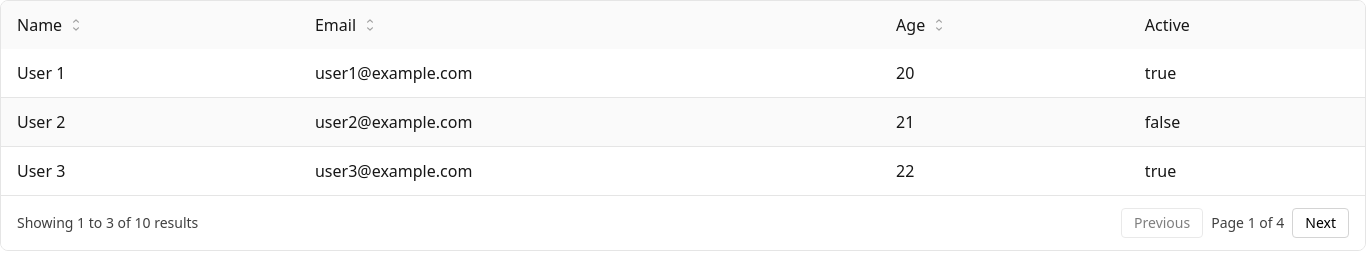
Test: DataTable › handles pagination when enabled
Check: the text "Showing 1 to 3 of 10 results" is shown, box [17,213,198,233]
Check: the button "Previous" is shown, box [1121,208,1203,238]
# Click next page
Click the button "Next" at {"x": 1321, "y": 223}, box [1292,208,1349,238]
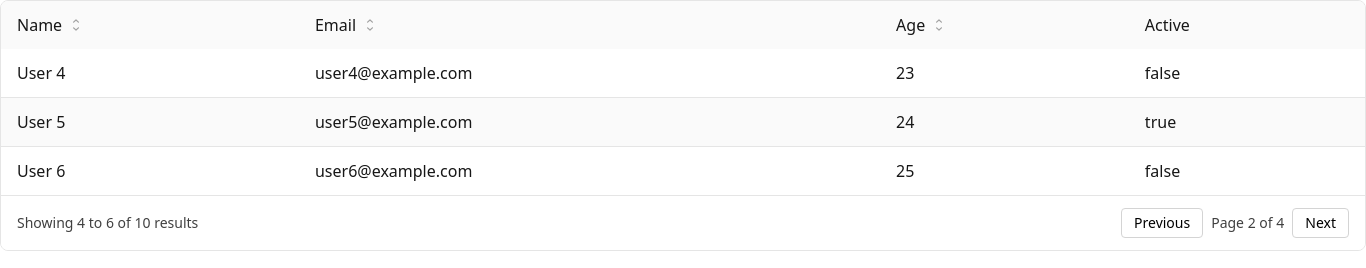
Check: the text "User 4" is shown, box [1,49,299,98]
